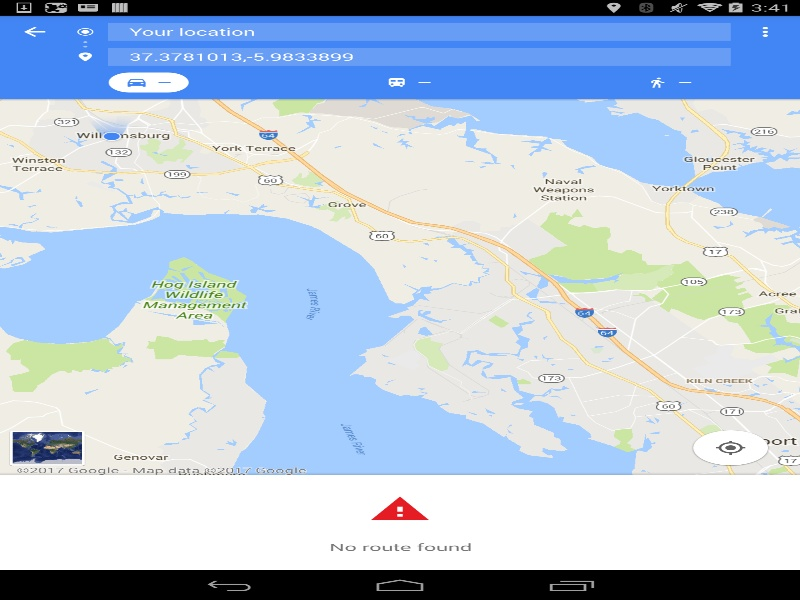Button: (12, 431, 82, 464)
Input: (108, 15, 730, 44), (108, 44, 730, 71)
